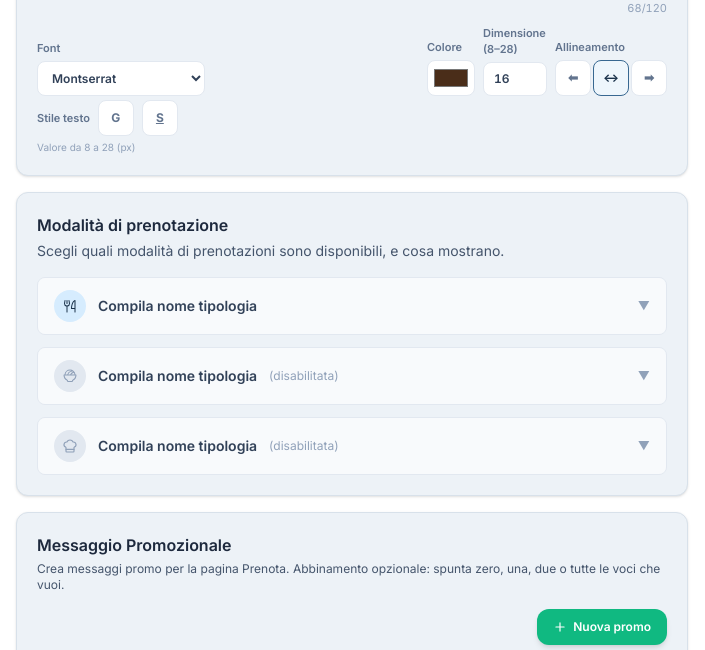
settings-carousel-crud — crea carosello in admin › bozza carosello: pulsante + Carosello apre editor vuoto e alza dirty
(page scrolled)
Click the button "Compila nome tipologia ▼" at (70, 306), box [38, 278, 666, 334]
(page scrolled)
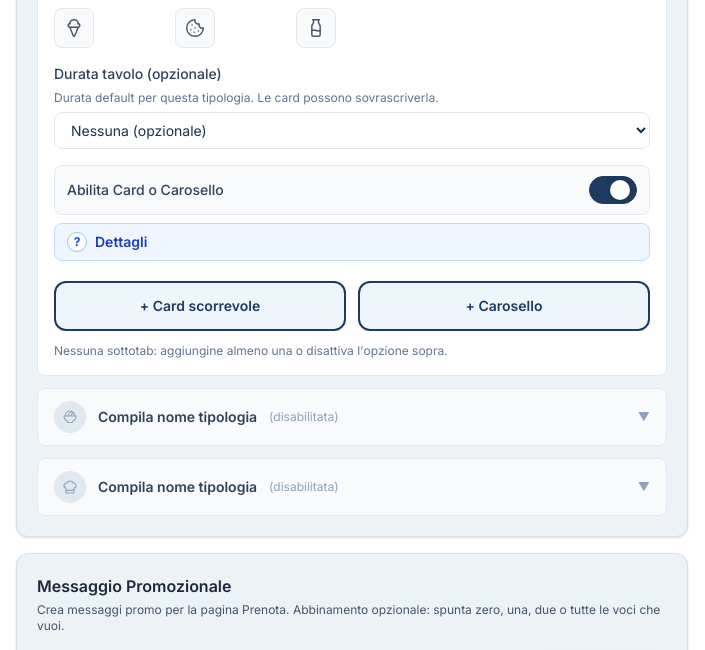
Check: the text "Abilita Card o Carosello" is shown, box [67, 180, 224, 200]
Click the button "+ Carosello" at (504, 306), box [358, 281, 650, 331]
(page scrolled)
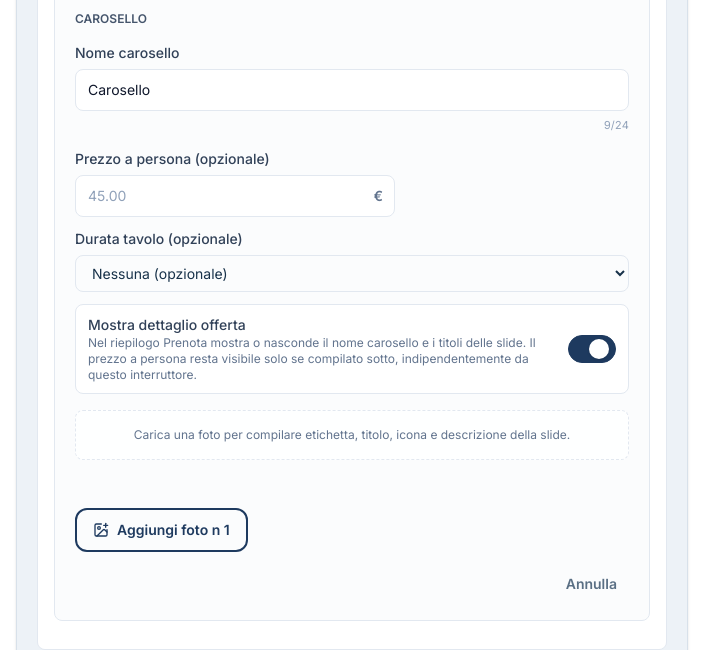
Check: the text "Nome carosello" is shown, box [75, 44, 180, 61]
Check: the field with placeholder "Nome tecnico per admin" is shown, box [75, 69, 629, 111]
Check: the text "Carica una foto per compilare etichetta, titolo, icona e descrizione" is shown, box [134, 427, 570, 442]
